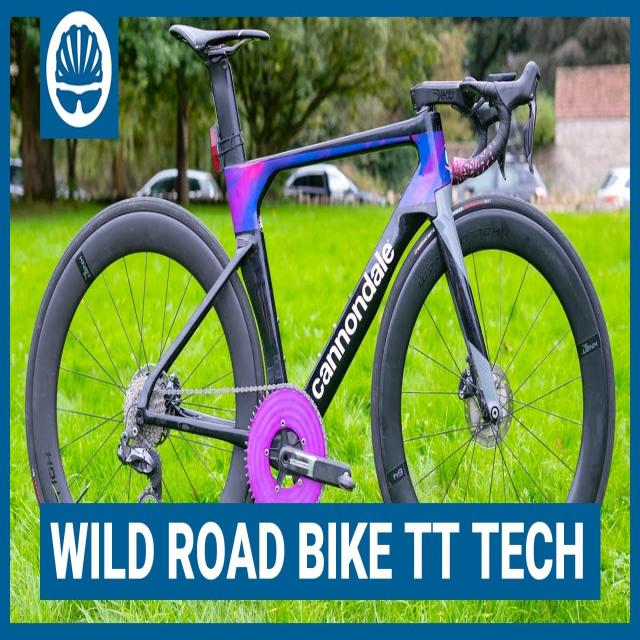TT-bike: (23, 22, 617, 586)
